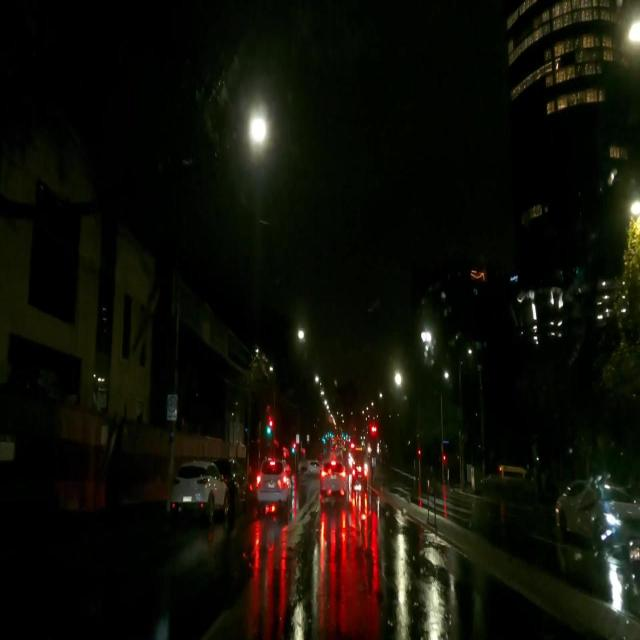Car: (552, 477, 637, 543), (170, 461, 228, 515)
